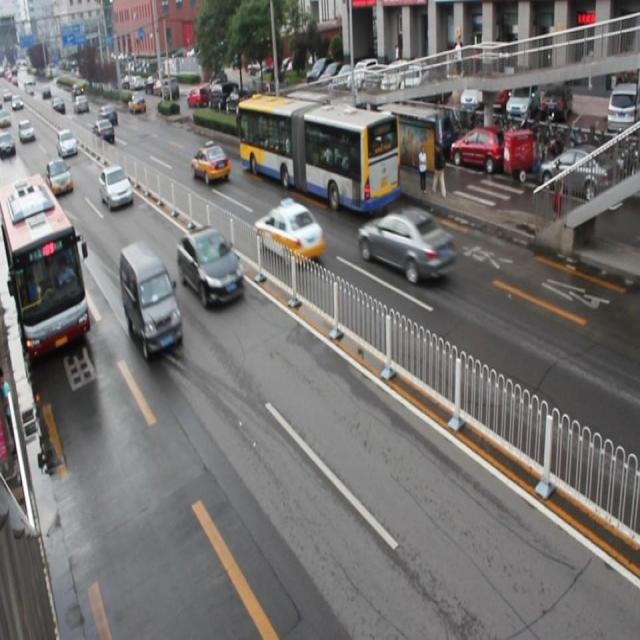car: (356, 210, 456, 282), (178, 226, 245, 306), (254, 197, 323, 263), (190, 141, 228, 183), (99, 165, 132, 207), (46, 156, 73, 196)
truck: (120, 242, 182, 358)
van: (235, 90, 398, 212), (1, 175, 91, 362)
